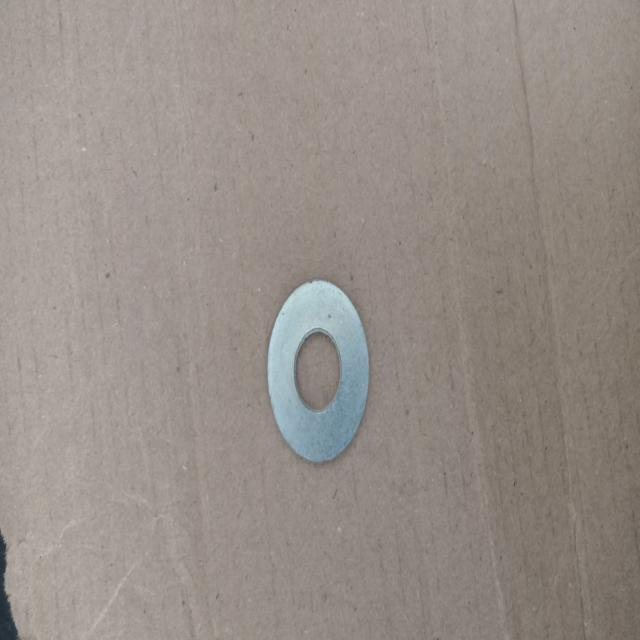washer: (267, 278, 370, 462)
